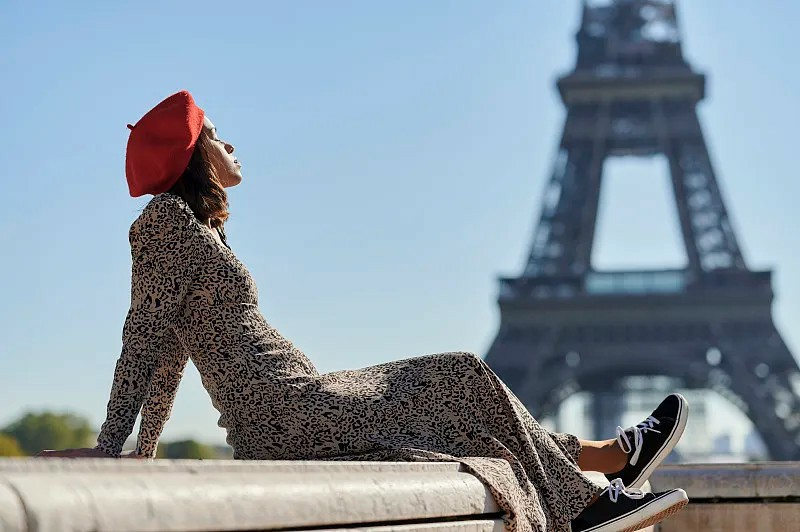Eiffel: (484, 1, 800, 461)
